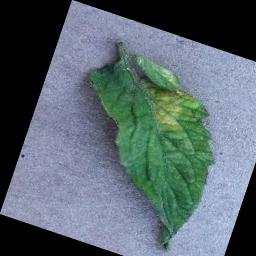Leaf_Mold: (126, 77, 206, 144)
